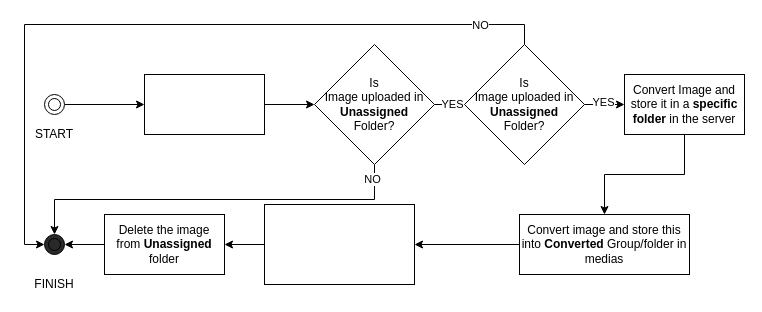
This 762x312 diagram has some shape labels left out. Here are the shapes that lost their labels. From the top down, the centre of each, then its label:
At point (204, 104): "New Image uploaded into Medias".
At point (339, 244): "Store the uploaded image from Unassigned folder to Original Images folder".
